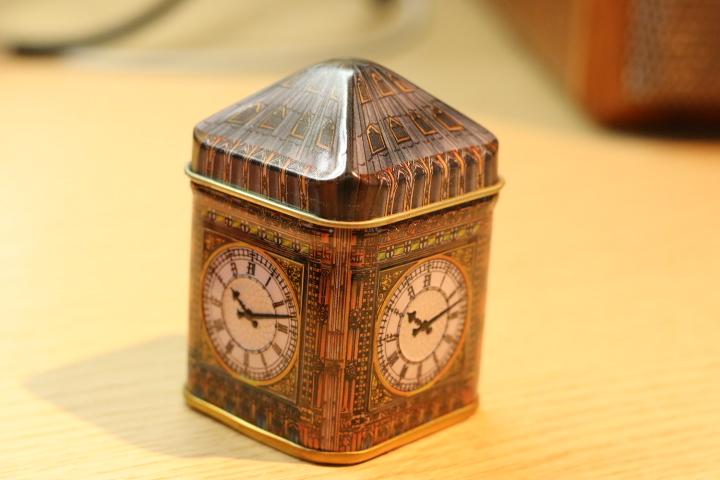Big Ben: (173, 48, 514, 474)
